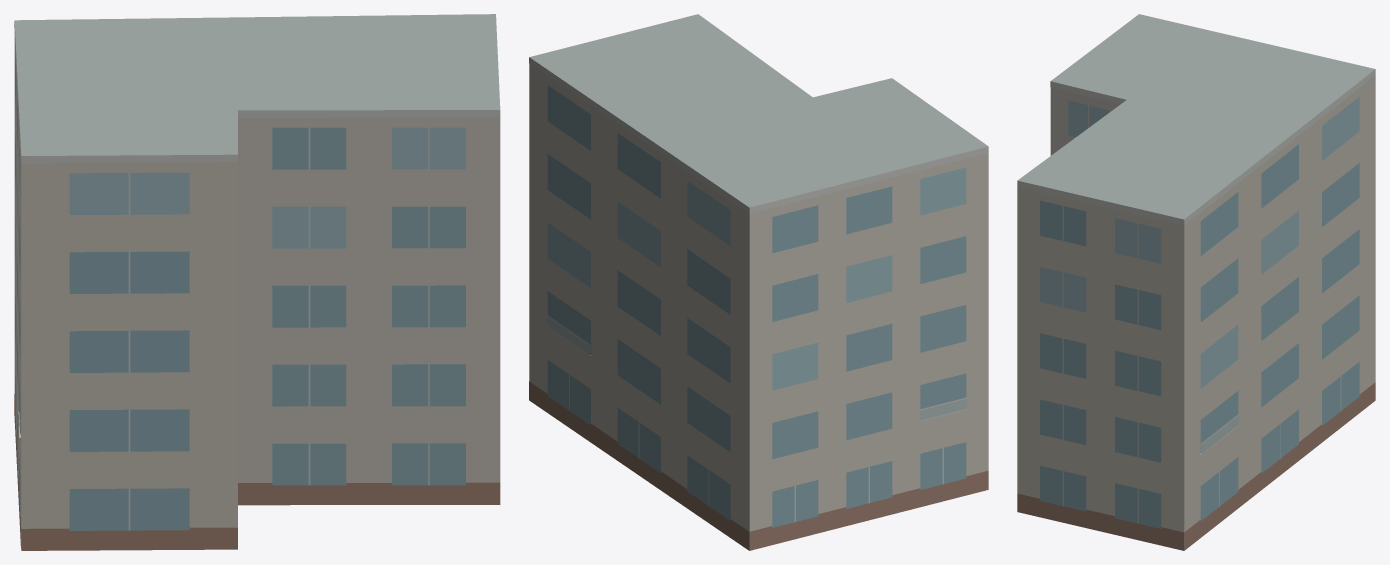
File: survey-upis-32892748.glb
3 renders of one model, left to right at view 1: azimuth 30°, elevation 25°; view 2: azimuth 150°, elevation 25°; view 3: azimuth 270°, elevation 25°, orthographic. The views are drawn at different scales.
Parts seen in each view (by area): view 1: survey-upis-32892748.tmp; view 2: survey-upis-32892748.tmp; view 3: survey-upis-32892748.tmp.
Boxes of the visible parts, left/top/right/bottom form: survey-upis-32892748.tmp: left=14, top=14, right=500, bottom=550; survey-upis-32892748.tmp: left=529, top=14, right=988, bottom=550; survey-upis-32892748.tmp: left=1017, top=14, right=1375, bottom=550.
Size of the model in its own units: 17.56 by 13.2 by 12.94.
